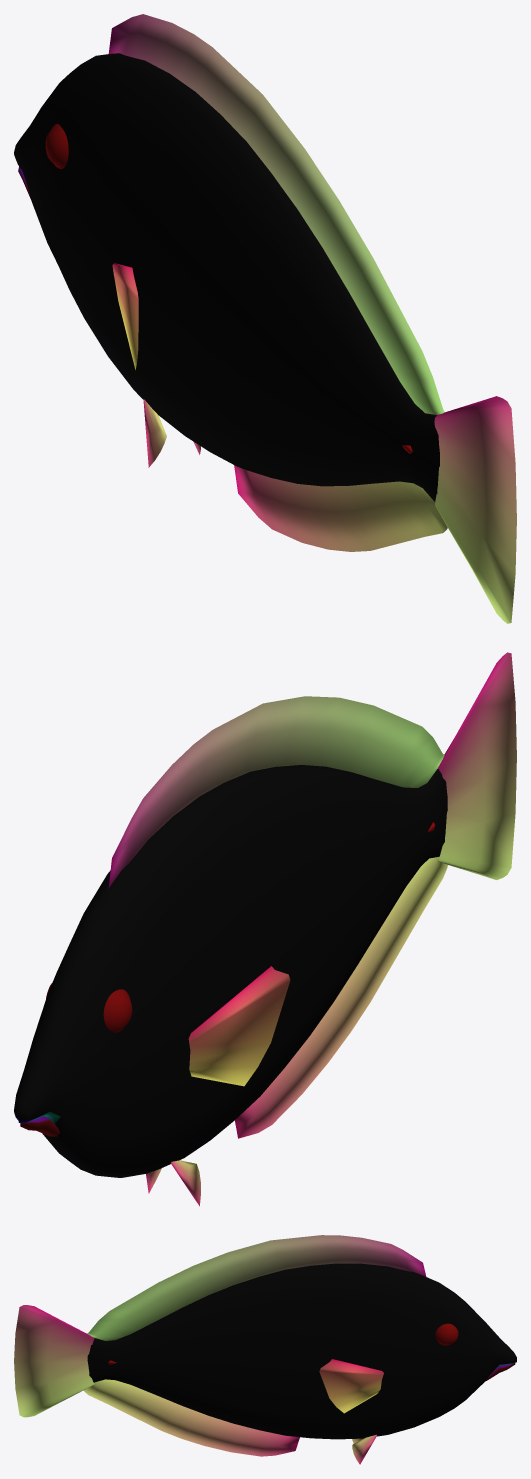
Rendered from surgeonfish_convict_game.glb.
3 views of the same model, one above another, from view 1: azimuth 30°, elevation 25°; view 2: azimuth 150°, elevation 25°; view 3: azimuth 270°, elevation 25° (orthographic). The views are drawn at different scales.
Visible parts, largest first — view 1: surgeonfish_convict_game; view 2: surgeonfish_convict_game; view 3: surgeonfish_convict_game.
Boxes of the visible parts, x1,y1,x2,y2 form: surgeonfish_convict_game: (14, 14, 516, 623); surgeonfish_convict_game: (14, 652, 516, 1206); surgeonfish_convict_game: (14, 1235, 516, 1464).
Bounding box in the file's own units: 0.043 × 0.1197 × 0.2442.
